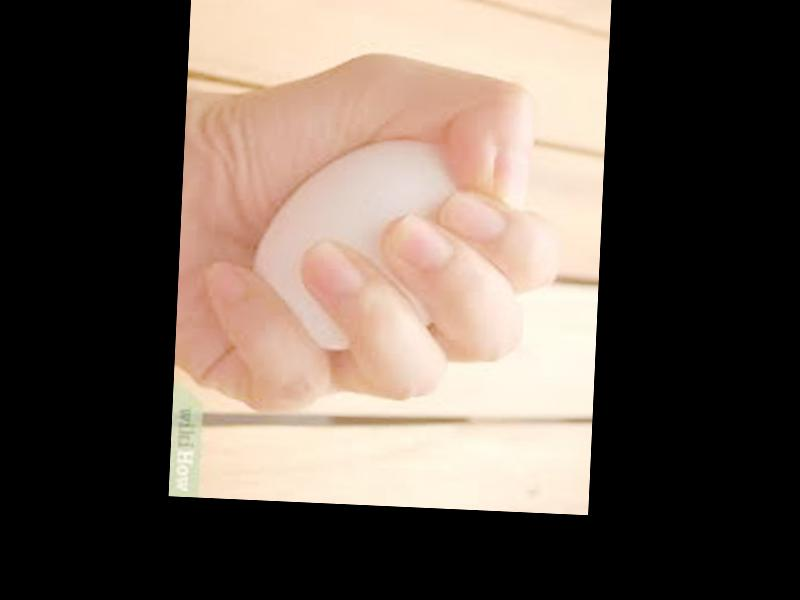Eggs: (250, 133, 480, 359)
